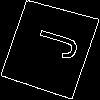J: (24, 24, 81, 62)
